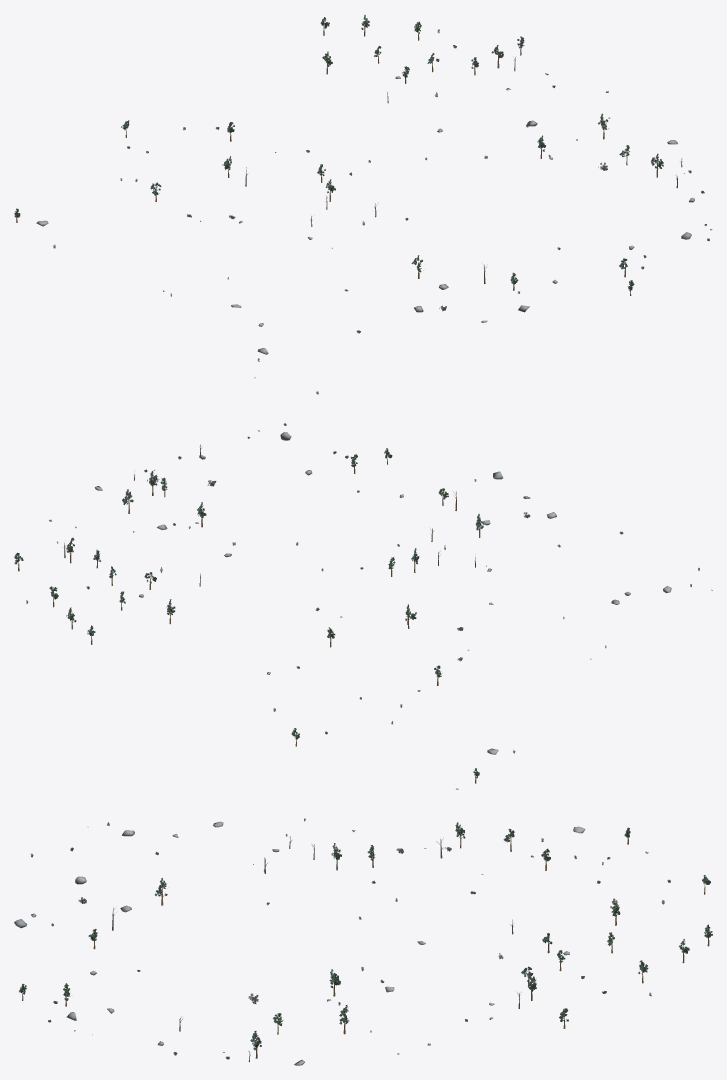
The model's file is frost_land_scatter_c12_12.glb.
The picture shows the model from 3 angles, top to bottom: view 1: azimuth 30°, elevation 25°; view 2: azimuth 150°, elevation 25°; view 3: azimuth 270°, elevation 25°; orthographic projection. The views are drawn at different scales.
Parts seen in each view (by area): view 1: frost_land_scatter_c12_12; view 2: frost_land_scatter_c12_12; view 3: frost_land_scatter_c12_12.
Part boxes in pixels (box(x1,y1,x2,y2)): frost_land_scatter_c12_12: box(14, 15, 712, 394); frost_land_scatter_c12_12: box(14, 423, 712, 789); frost_land_scatter_c12_12: box(14, 818, 712, 1065).
Bounding box in the file's own units: 253 × 48.69 × 256.
